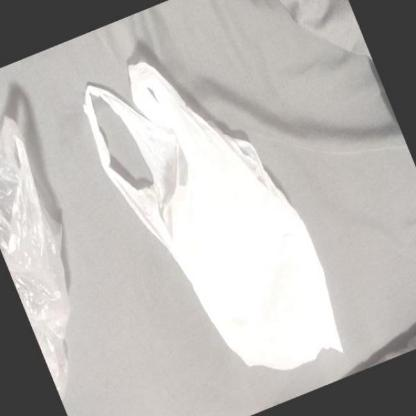Plastic Bag: (82, 65, 345, 371)
